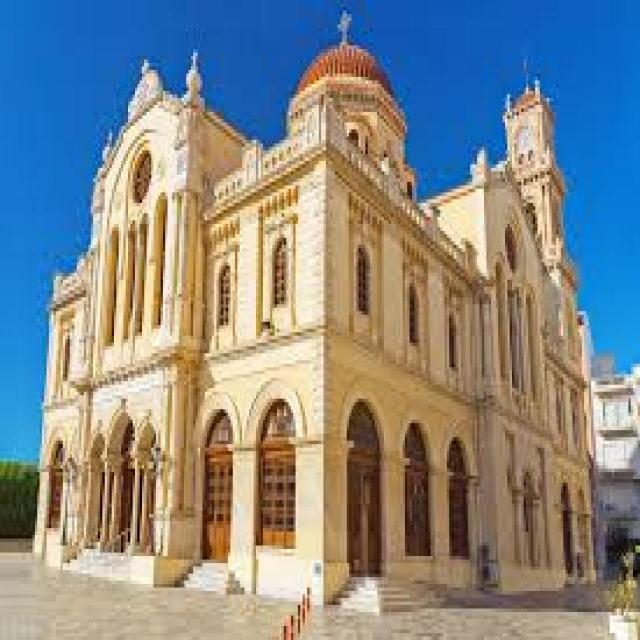Agios Minas: (36, 11, 601, 611)
